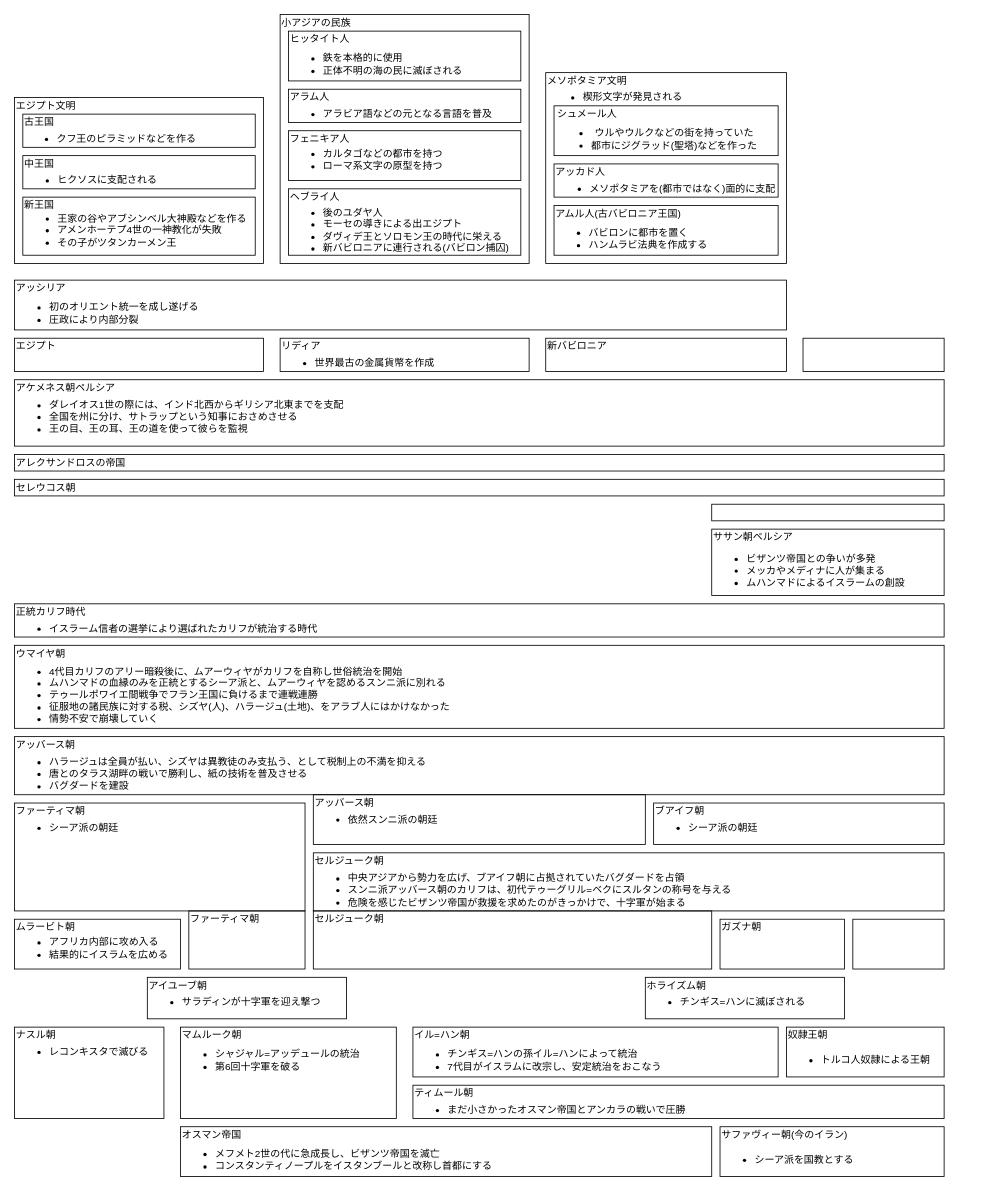
Some shapes in this 984 by 1196 pixel diagram are drawn without their labels. Here are the shapes that lost their labels. From the top down, the centre of each, then its label:
At [873,354]: "メディア(今のイラン)".
At [827,512]: "パルティア".
At [898,943]: "カラ=ハン朝".
